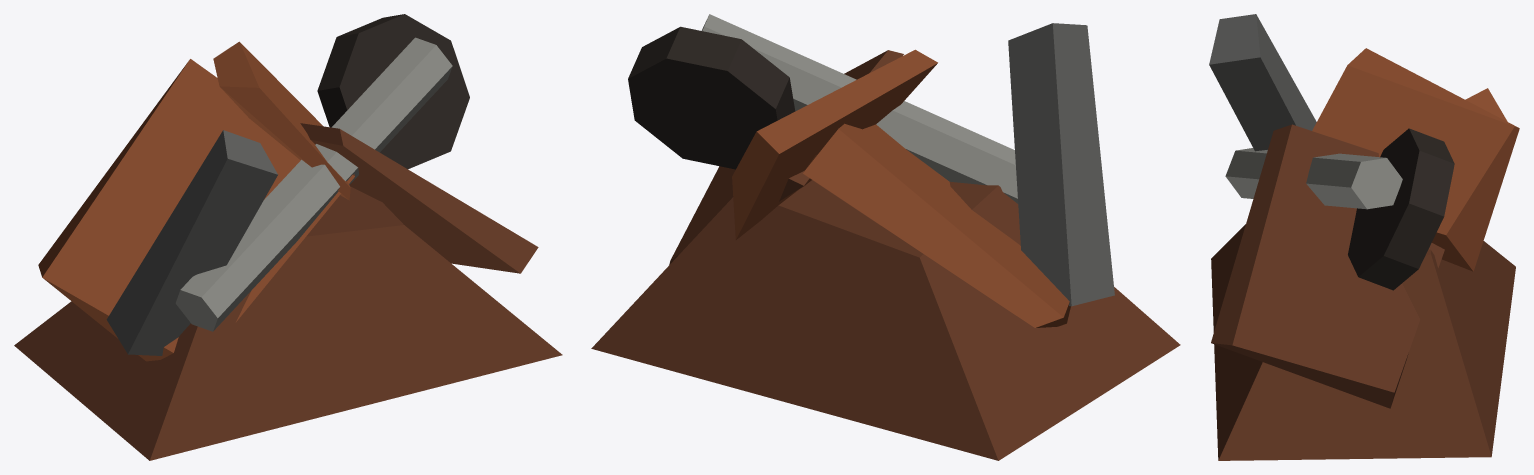
File: good_scrap.glb
3 renders of one model, left to right at view 1: azimuth 30°, elevation 25°; view 2: azimuth 150°, elevation 25°; view 3: azimuth 270°, elevation 25°, orthographic. The views are drawn at different scales.
Parts seen in each view (by area): view 1: good_scrap; view 2: good_scrap; view 3: good_scrap.
Part boxes in pixels (x1,y1,x2,y2): good_scrap: [14, 14, 562, 460]; good_scrap: [591, 14, 1180, 460]; good_scrap: [1209, 14, 1519, 460].
Bounding box in the file's own units: 0.61 × 0.407 × 0.393.
